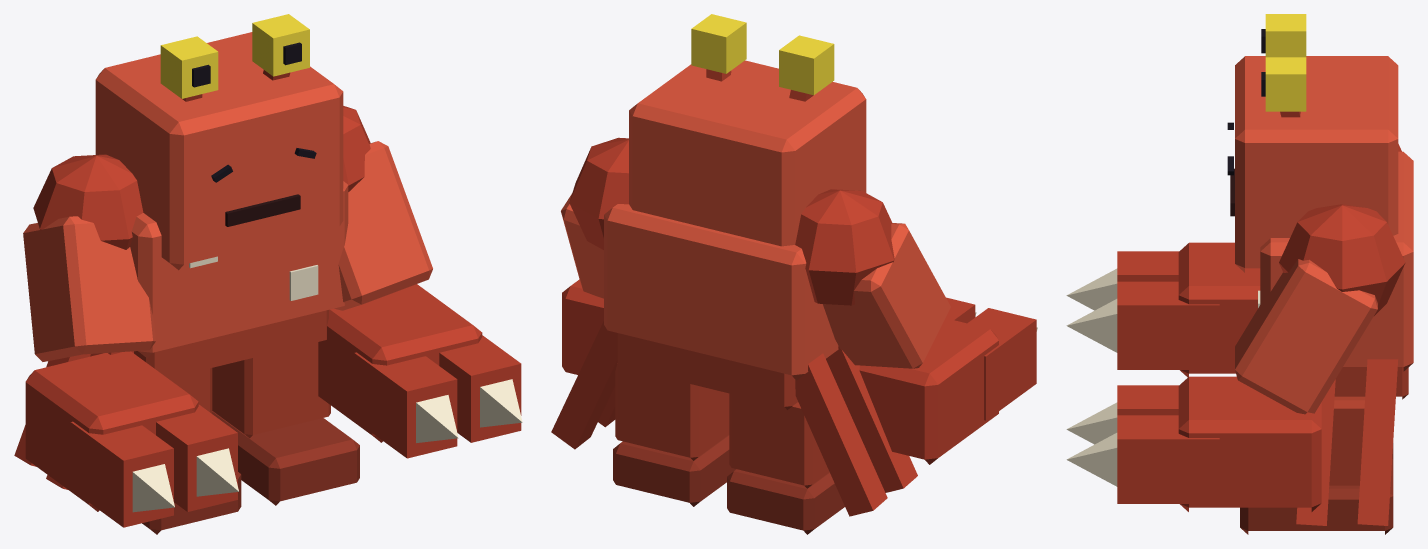
File: r15_mini_crab_crusher.glb
The picture shows the model from 3 angles, left to right: view 1: azimuth 30°, elevation 25°; view 2: azimuth 150°, elevation 25°; view 3: azimuth 270°, elevation 25°; orthographic projection. The views are drawn at different scales.
Parts seen in each view (by area): view 1: r15_mini_crab_crusher_mesh; view 2: r15_mini_crab_crusher_mesh; view 3: r15_mini_crab_crusher_mesh.
Part boxes in pixels (x1,y1,x2,y2): r15_mini_crab_crusher_mesh: (14,14,522,534); r15_mini_crab_crusher_mesh: (551,14,1037,534); r15_mini_crab_crusher_mesh: (1066,14,1413,534).
Size of the model in its own units: 3.81 by 4.2 by 2.98.
Materials: 1 (1 with a texture image).
